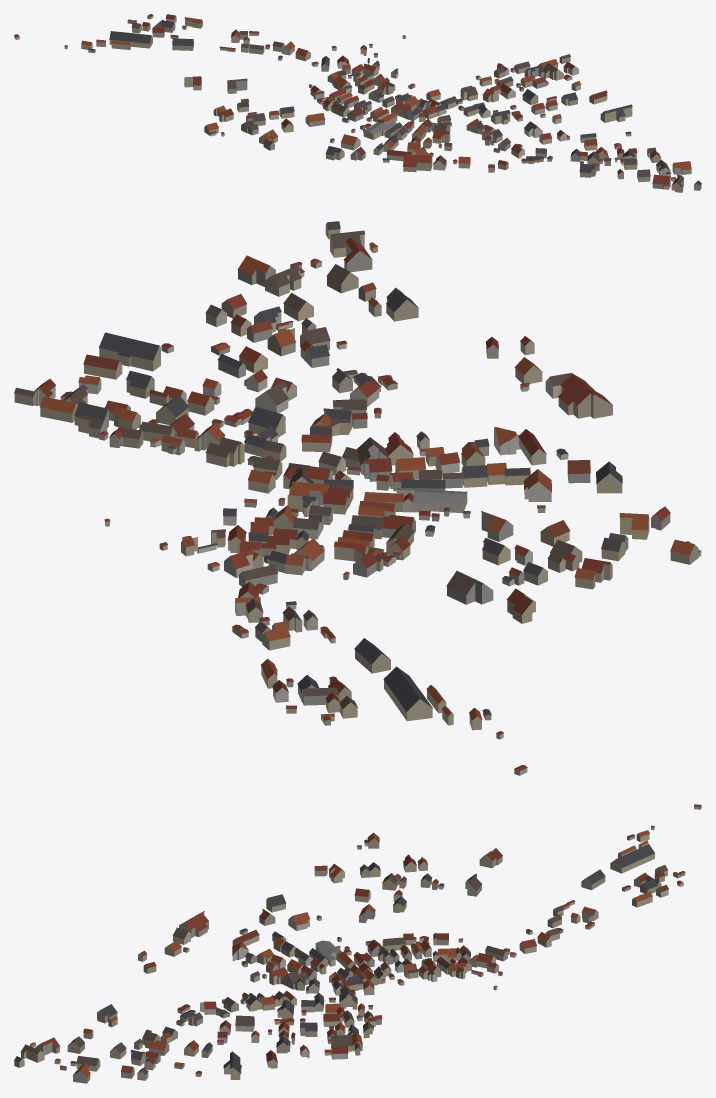
3 views of the same model, one above another, from view 1: azimuth 30°, elevation 25°; view 2: azimuth 150°, elevation 25°; view 3: azimuth 270°, elevation 25° (orthographic). The views are drawn at different scales.
Visible parts, largest first — view 1: buildings; view 2: buildings; view 3: buildings.
Part boxes in pixels (left/top/right/bottom): buildings: left=14, top=14, right=701, bottom=192; buildings: left=14, top=221, right=701, bottom=775; buildings: left=14, top=804, right=701, bottom=1083.
Size of the model in its own units: 523 by 54.18 by 644.
